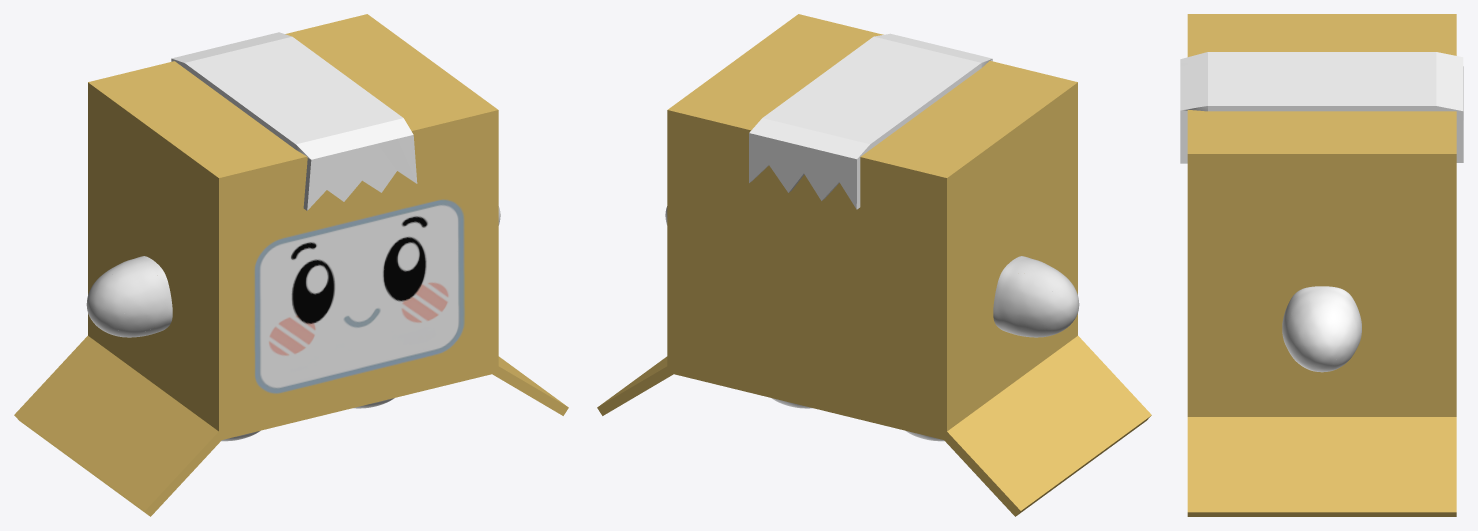
Rendered from boxy_lankybox (2).glb.
3 views of the same model, side by side, from view 1: azimuth 30°, elevation 25°; view 2: azimuth 150°, elevation 25°; view 3: azimuth 270°, elevation 25° (orthographic). The views are drawn at different scales.
Parts seen in each view (by area): view 1: Cube_Material_0, Cube.001__0, Cube.002_Material.001_0, Icosphere_Material.005_0.001, Icosphere_Material.005_0, Icosphere_Material.005_0.002, Cube.003_Material.003_0, Icosphere_Material.005_0.003; view 2: Cube_Material_0, Cube.001__0, Cube.002_Material.001_0, Icosphere_Material.005_0.003, Icosphere_Material.005_0.002, Icosphere_Material.005_0.001, Cube.003_Material.003_0, Icosphere_Material.005_0; view 3: Cube_Material_0, Cube.003_Material.003_0, Cube.001__0, Icosphere.001_Material.006_0.003, Icosphere.001_Material.006_0.002, Icosphere.001_Material.006_0.001, Icosphere.001_Material.006_0.
Boxes of the visible parts, x1,y1,x2,y2 form: Cube_Material_0: (88,14,498,439); Cube.001__0: (171,32,417,210); Cube.002_Material.001_0: (14,336,224,516); Icosphere_Material.005_0.001: (93,273,163,337); Icosphere_Material.005_0: (110,256,172,332); Icosphere_Material.005_0.002: (86,260,167,334); Cube.003_Material.003_0: (489,356,568,415); Icosphere_Material.005_0.003: (89,264,125,335); Cube_Material_0: (667,14,1077,439); Cube.001__0: (749,33,992,209); Cube.002_Material.001_0: (941,336,1151,516); Icosphere_Material.005_0.003: (1018,273,1079,334); Icosphere_Material.005_0.002: (999,256,1075,332); Icosphere_Material.005_0.001: (998,264,1070,337); Cube.003_Material.003_0: (597,356,676,415); Icosphere_Material.005_0: (993,258,1055,331); Cube_Material_0: (1187,14,1456,416); Cube.003_Material.003_0: (1187,417,1456,516); Cube.001__0: (1180,52,1463,163); Icosphere.001_Material.006_0.003: (1291,301,1360,371); Icosphere.001_Material.006_0.002: (1282,286,1361,366); Icosphere.001_Material.006_0.001: (1283,301,1361,372); Icosphere.001_Material.006_0: (1282,286,1361,334).
Size of the model in its own units: 2.5 by 1.85 by 1.41.
6 materials, 1 textured.
